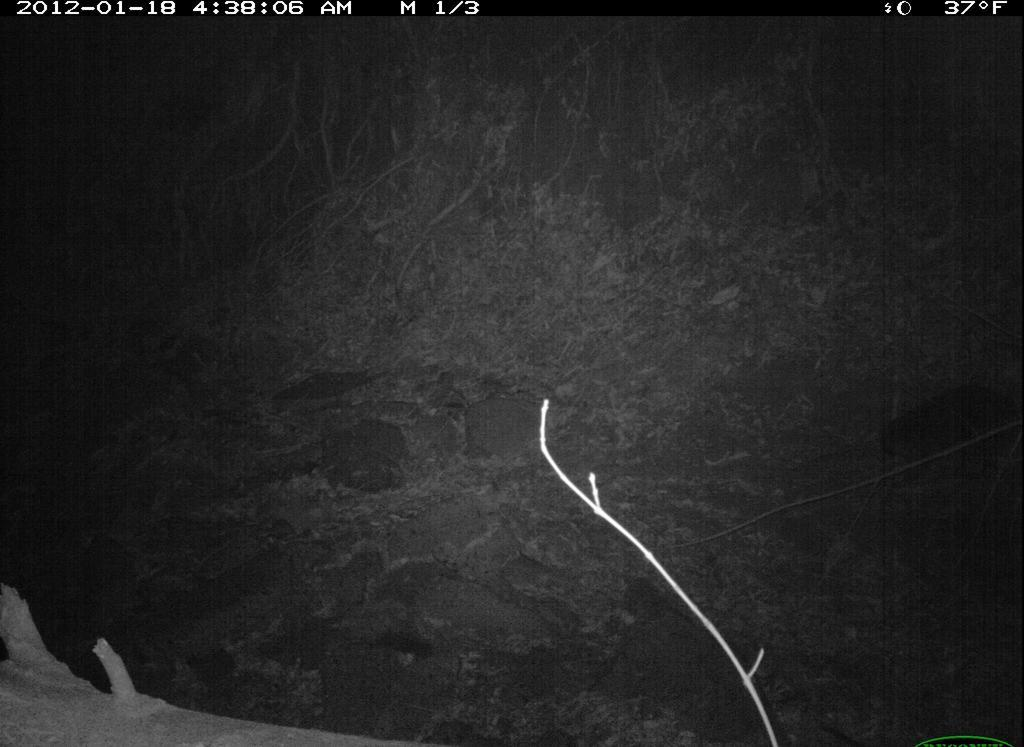raccoon: (373, 323, 619, 588)
